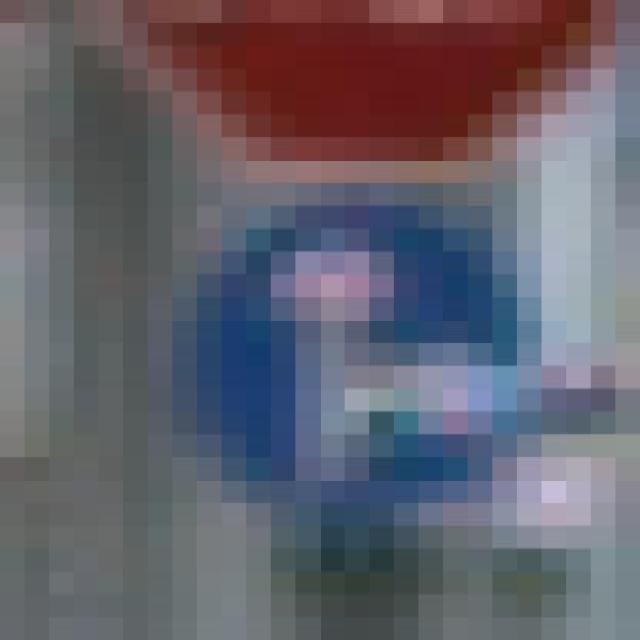Go Straight or Turn Right: (148, 205, 590, 526)
